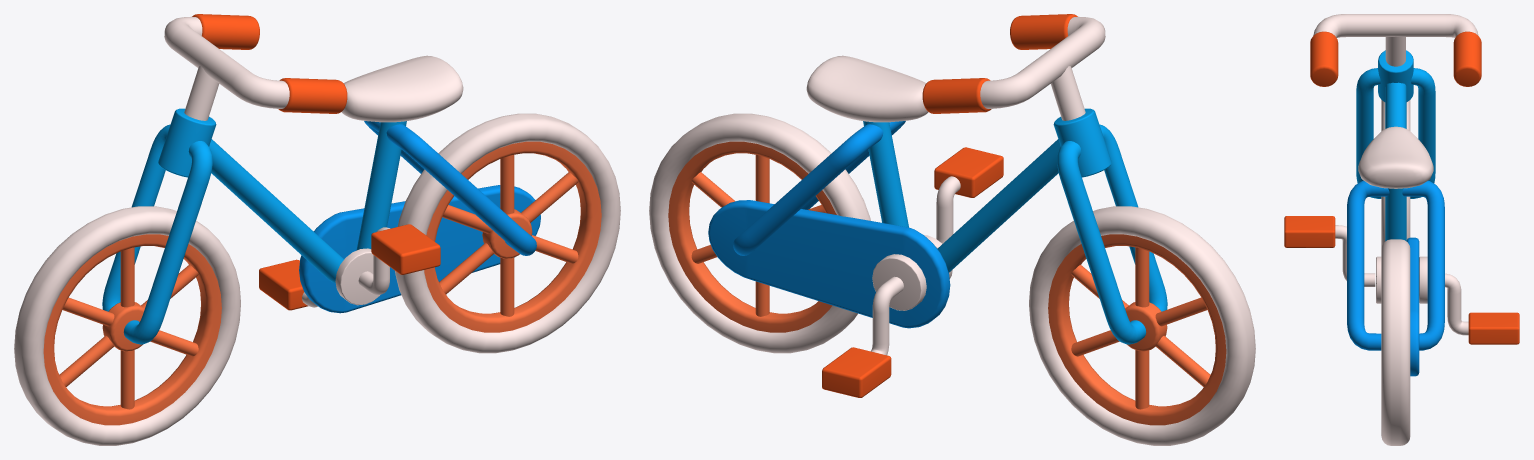
The model's file is Town_19_Bicycle_1.glb.
3 renders of one model, left to right at view 1: azimuth 30°, elevation 25°; view 2: azimuth 150°, elevation 25°; view 3: azimuth 270°, elevation 25°, orthographic. The views are drawn at different scales.
Parts seen in each view (by area): view 1: Town_19_Bicycle_1; view 2: Town_19_Bicycle_1; view 3: Town_19_Bicycle_1.
Boxes of the visible parts, x1,y1,x2,y2 form: Town_19_Bicycle_1: (14,14,620,445); Town_19_Bicycle_1: (649,14,1255,445); Town_19_Bicycle_1: (1284,14,1519,445).
Size of the model in its own units: 2.12 by 1.25 by 0.8828.
1 material, 1 textured.
